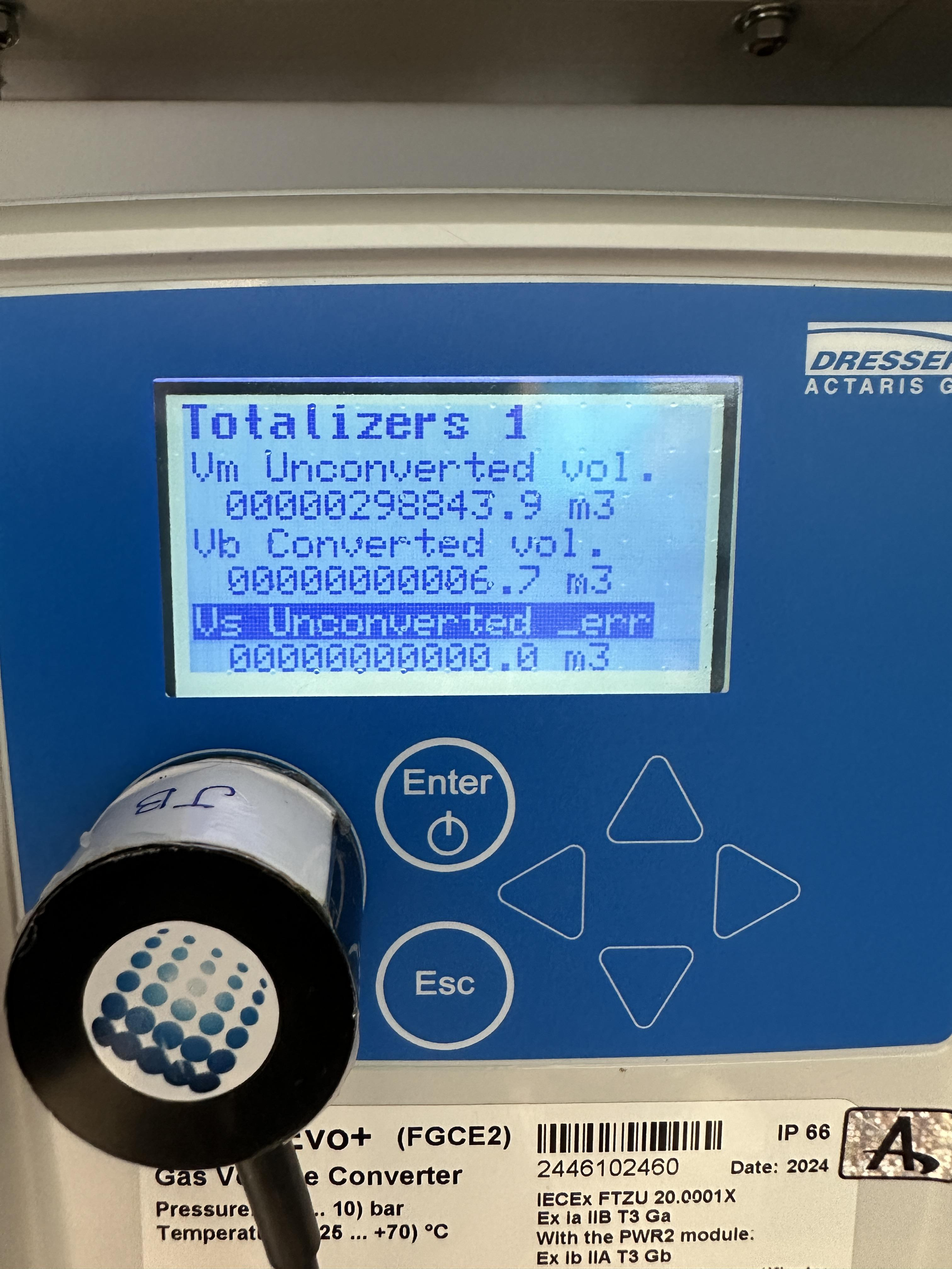digital_screen: (167, 395, 725, 696)
